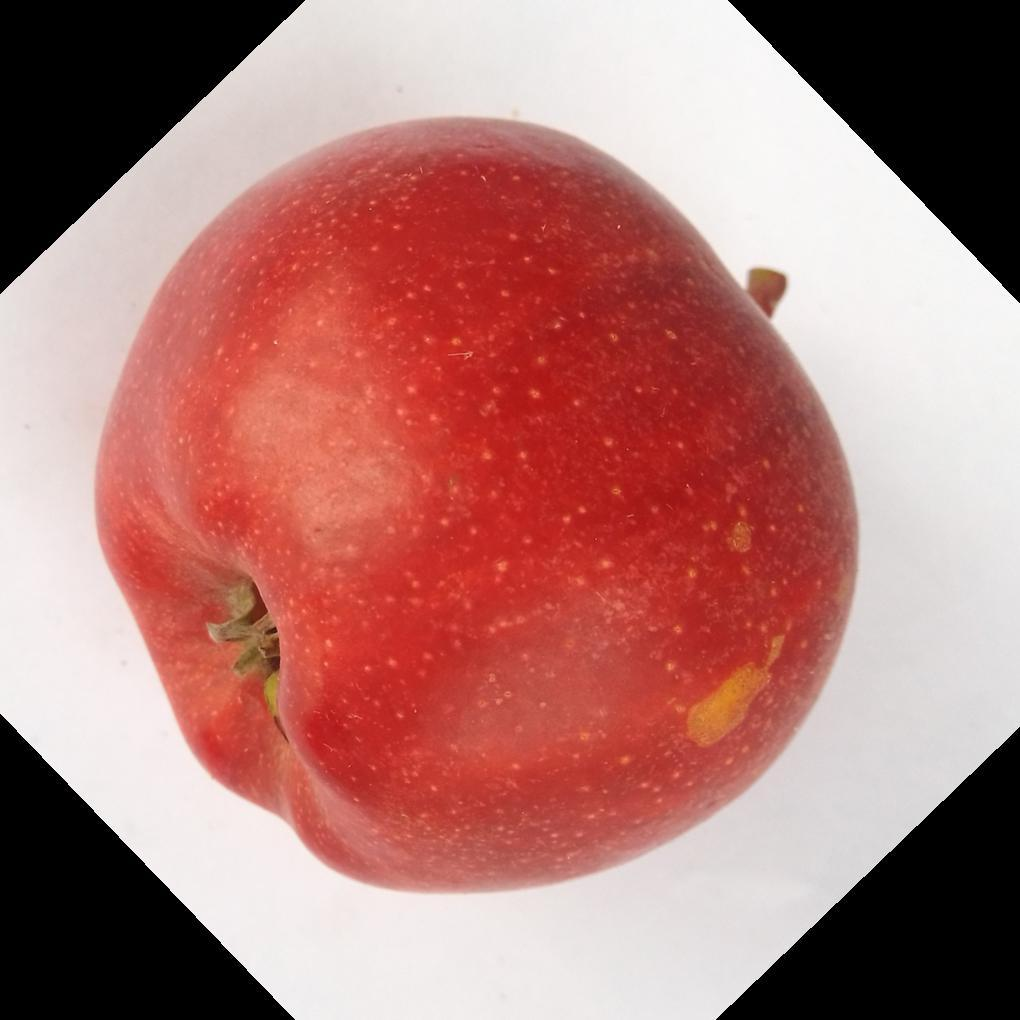FreshGuava: (92, 119, 861, 899)
